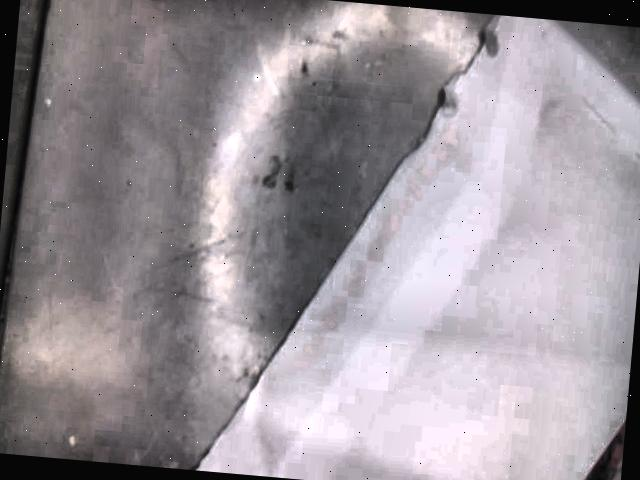Plastic: (191, 14, 640, 480)
